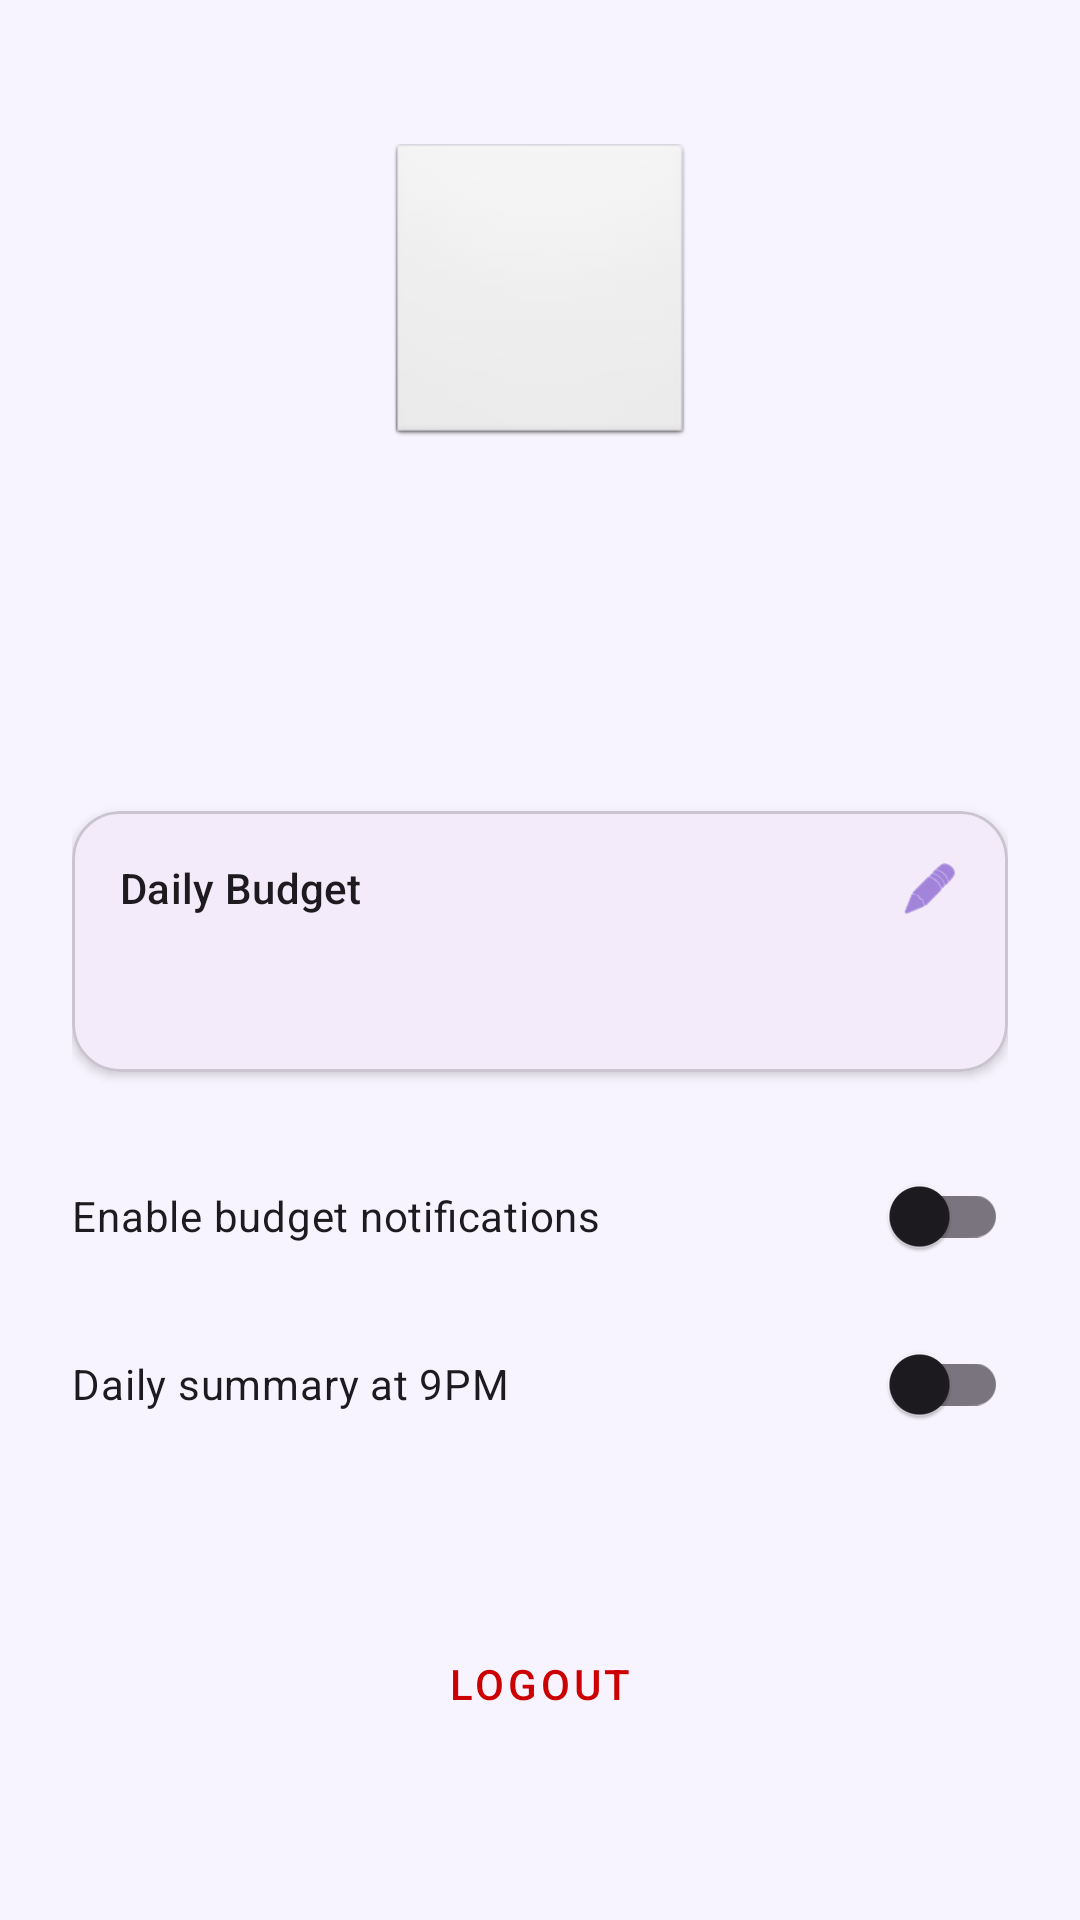

Icon click points for this 1080x1920 phone screenshot, format [x,y]:
edit: [929,888]
